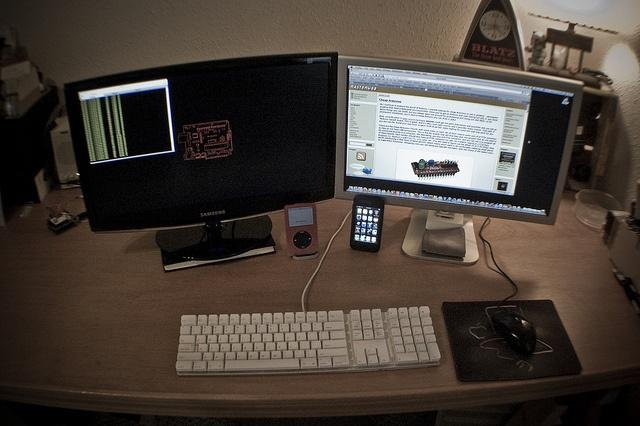AIO PC-Monitor-TV: (61, 50, 338, 233), (333, 52, 584, 226)
